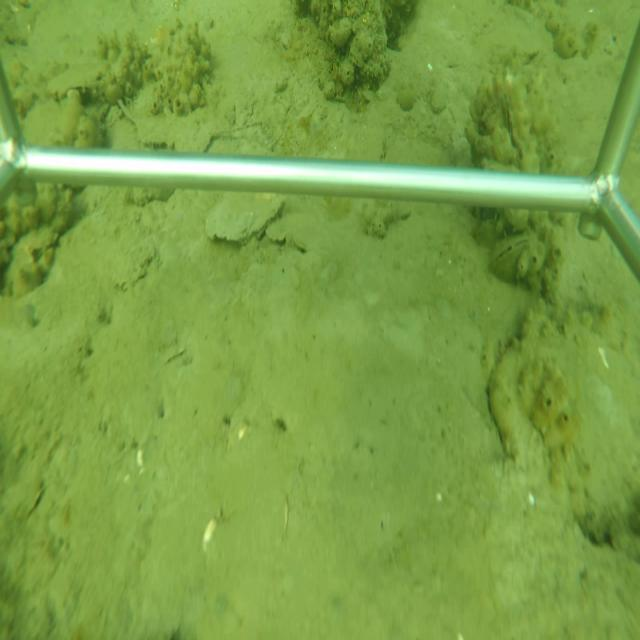Oyster-Closed: (204, 192, 286, 248), (265, 210, 331, 252), (489, 237, 532, 281), (504, 87, 527, 167)
